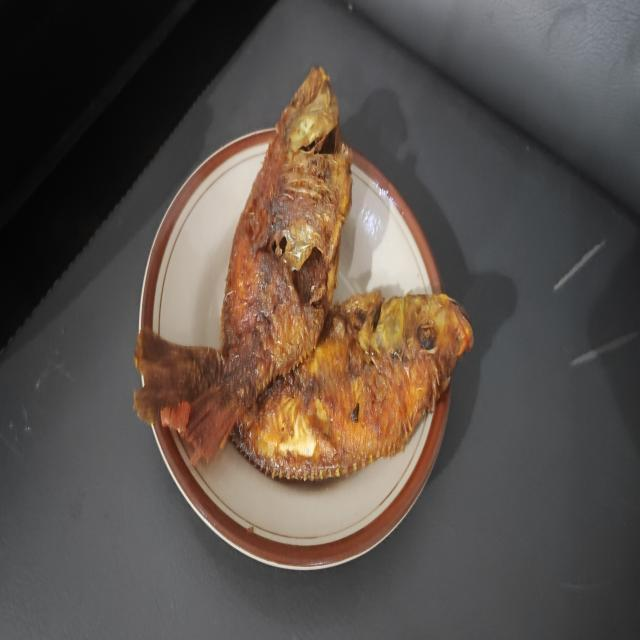ikan_mujair: (134, 68, 352, 460), (231, 290, 474, 480)
